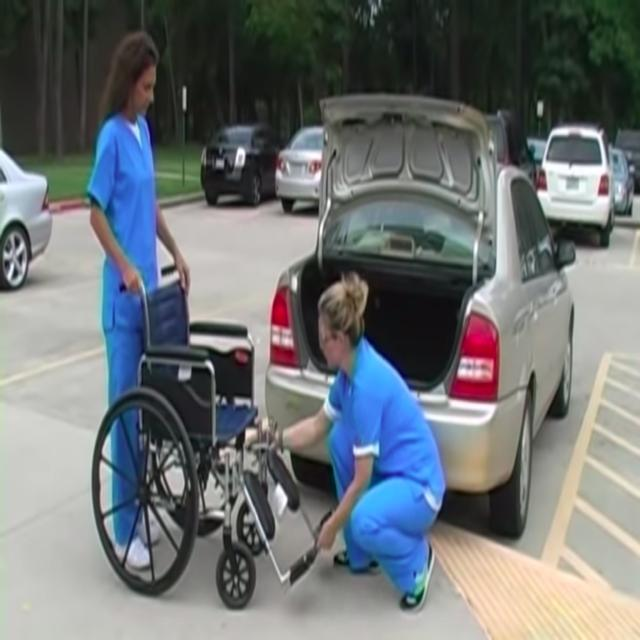wheelchairs: (92, 273, 308, 605)
